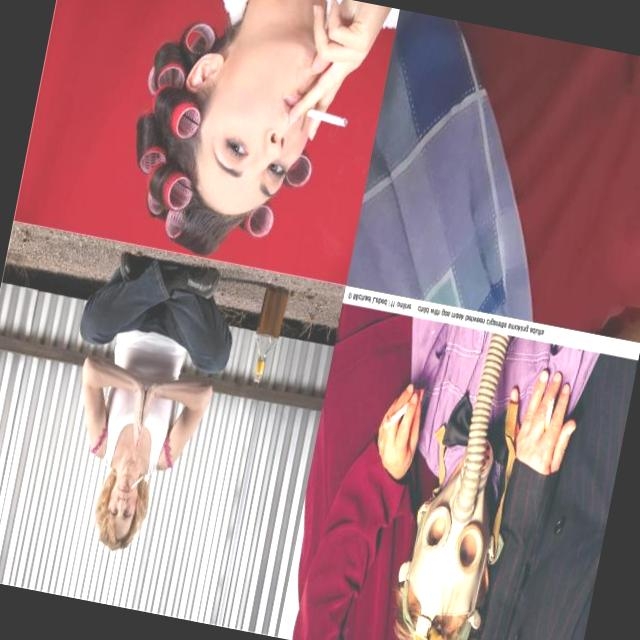cigarette: (382, 394, 417, 436), (298, 105, 350, 128), (127, 471, 146, 495), (544, 395, 556, 431)
